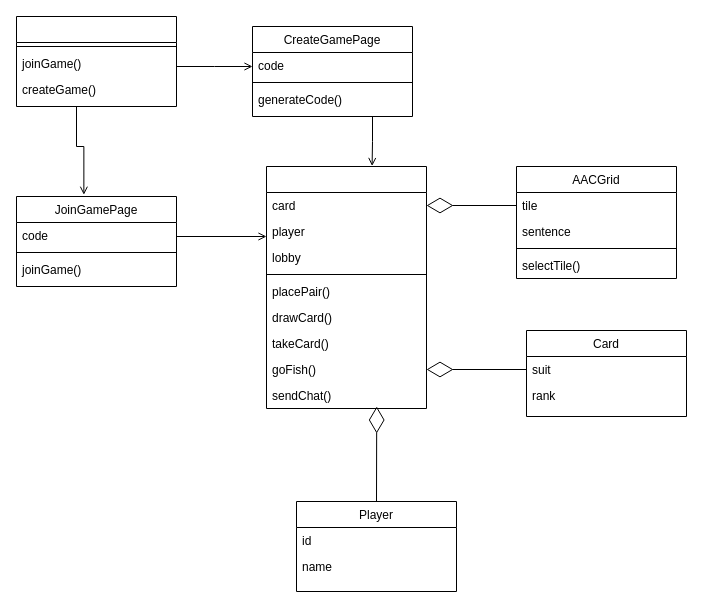
Some shapes in this 703 by 608 pixel diagram are drawn without their labels. The shapes that lost their labels are listed below. From the top down, each one's box as (x1, y1, x2, y2) in pixels, then its label:
(16, 16, 176, 106): WelcomePage
(266, 166, 426, 408): GamePage
